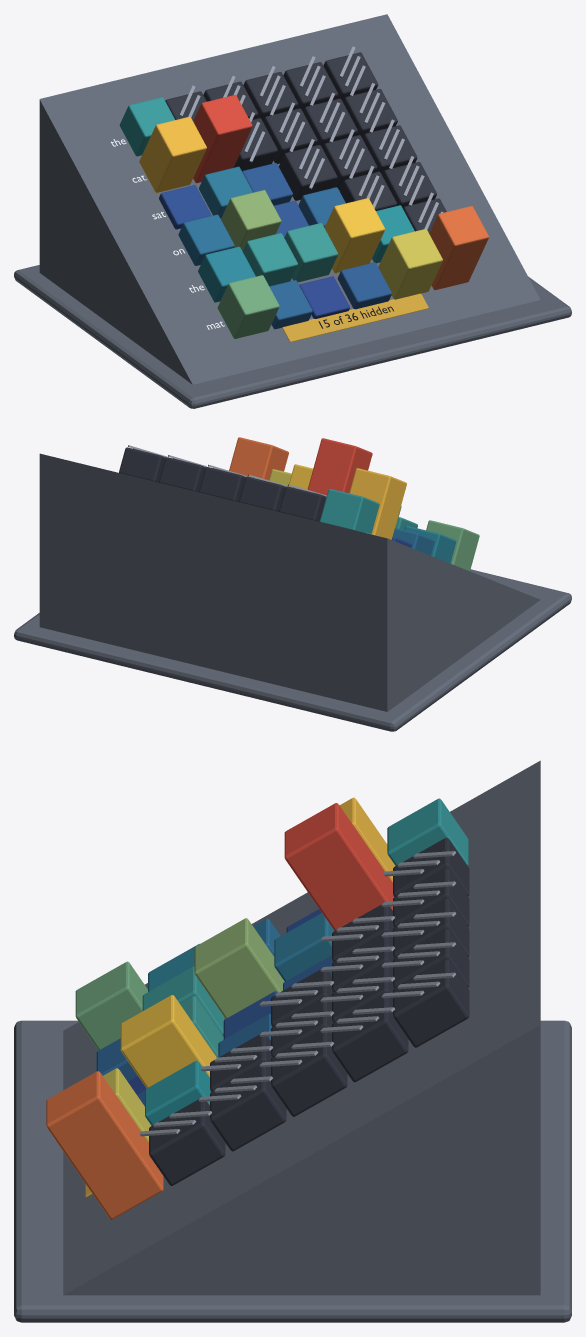
Rendered from mask.glb.
3 views of the same model, one above another, from view 1: azimuth 30°, elevation 25°; view 2: azimuth 150°, elevation 25°; view 3: azimuth 270°, elevation 25° (orthographic). The views are drawn at different scales.
Parts seen in each view (by area): view 1: slope, stand, col.001, col.020, col.002, col.019, col.013, col.015, lbl_p, col.007, col.012, col.011 (+27 smaller); view 2: slope, stand, col.002, col.001, col, col.020, col.015, cover, cover.004, cover.001, cover.002, cover.003 (+3 smaller); view 3: slope, stand, col.020, col.002, col.007, col.013, cover.004, col.015, cover.008, cover.014, cover.013, cover.011 (+34 smaller).
Boxes of the visible parts, x1,y1,x2,y2 form: slope: [39, 14, 540, 384]; stand: [14, 265, 571, 408]; col.001: [139, 116, 206, 192]; col.020: [429, 206, 488, 290]; col.002: [193, 95, 252, 183]; col.019: [378, 229, 442, 299]; col.013: [324, 198, 385, 273]; col.015: [217, 275, 279, 338]; lbl_p: [282, 293, 428, 342]; col.007: [221, 190, 281, 250]; col.012: [284, 223, 338, 282]; col.011: [242, 233, 297, 286]; slope: [39, 453, 540, 711]; stand: [14, 569, 571, 731]; col.002: [307, 438, 372, 495]; col.001: [349, 468, 406, 539]; col: [319, 488, 379, 534]; col.020: [229, 437, 288, 480]; col.015: [426, 520, 479, 571]; cover: [279, 486, 326, 521]; cover.004: [119, 447, 165, 482]; cover.001: [239, 476, 285, 511]; cover.002: [199, 467, 245, 501]; cover.003: [159, 457, 205, 492]; slope: [63, 760, 540, 1295]; stand: [14, 1020, 571, 1322]; col.020: [46, 1071, 163, 1219]; col.002: [284, 803, 394, 930]; col.007: [194, 918, 284, 1018]; col.013: [120, 995, 216, 1088]; cover.004: [393, 959, 469, 1047]; col.015: [75, 961, 147, 1050]; cover.008: [332, 995, 408, 1082]; cover.014: [149, 1099, 225, 1185]; cover.013: [210, 1064, 286, 1151]; cover.011: [271, 1030, 347, 1116].
Size of the model in its own units: 1.1 by 0.5628 by 0.8919.
